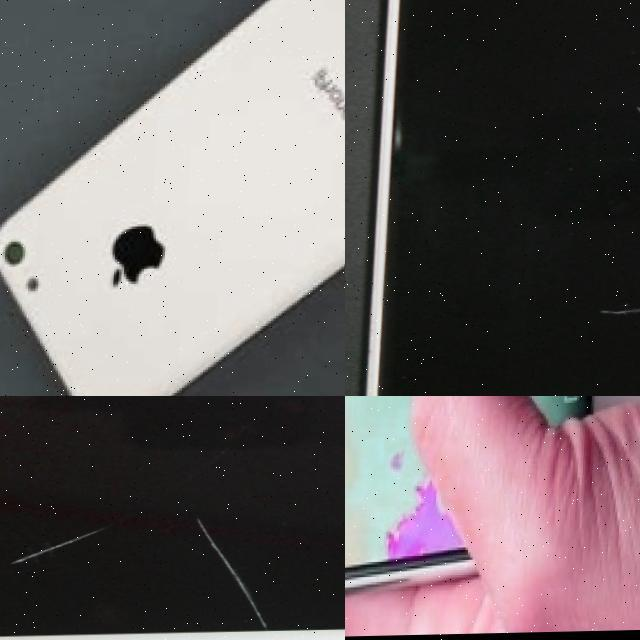scratch: (184, 508, 282, 628), (17, 531, 109, 564), (605, 289, 640, 317)
